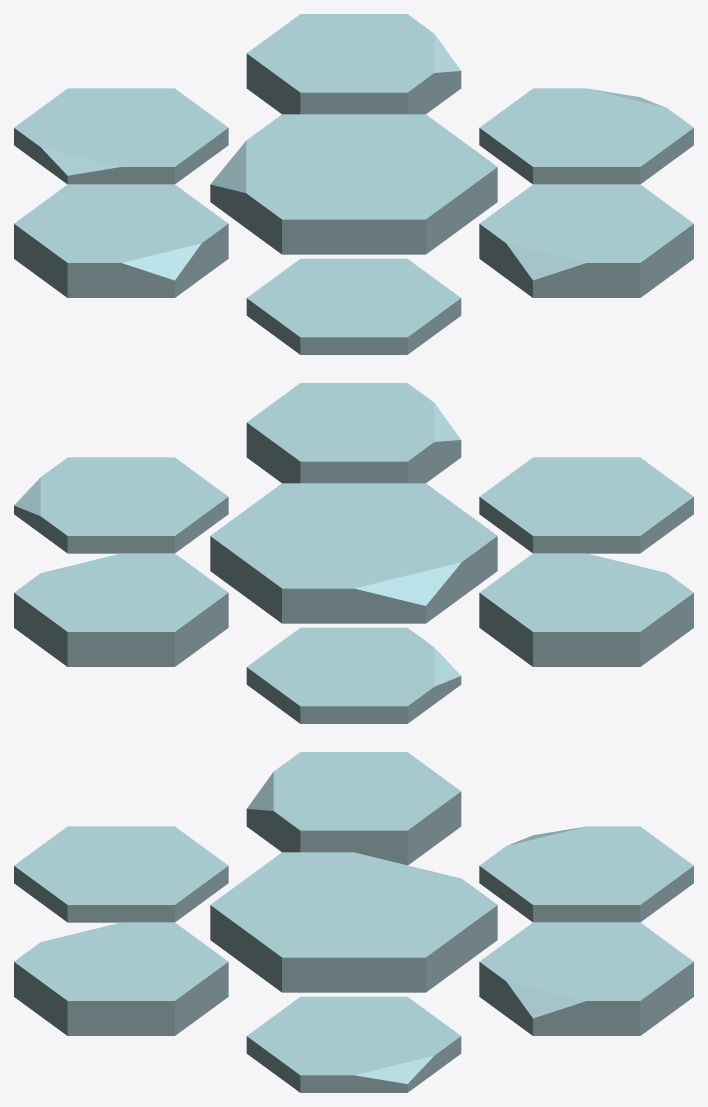
File: path_stoneCircle.glb
3 renders of one model, top to bottom at view 1: azimuth 30°, elevation 25°; view 2: azimuth 150°, elevation 25°; view 3: azimuth 270°, elevation 25°, orthographic.
Parts seen in each view (by area): view 1: path_stoneCircle; view 2: path_stoneCircle; view 3: path_stoneCircle.
Boxes of the visible parts, left/top/right/bottom form: path_stoneCircle: left=14, top=14, right=693, bottom=354; path_stoneCircle: left=14, top=383, right=693, bottom=723; path_stoneCircle: left=14, top=752, right=693, bottom=1092.
Bounding box in the file's own units: 0.9324 × 0.05 × 0.8766.
